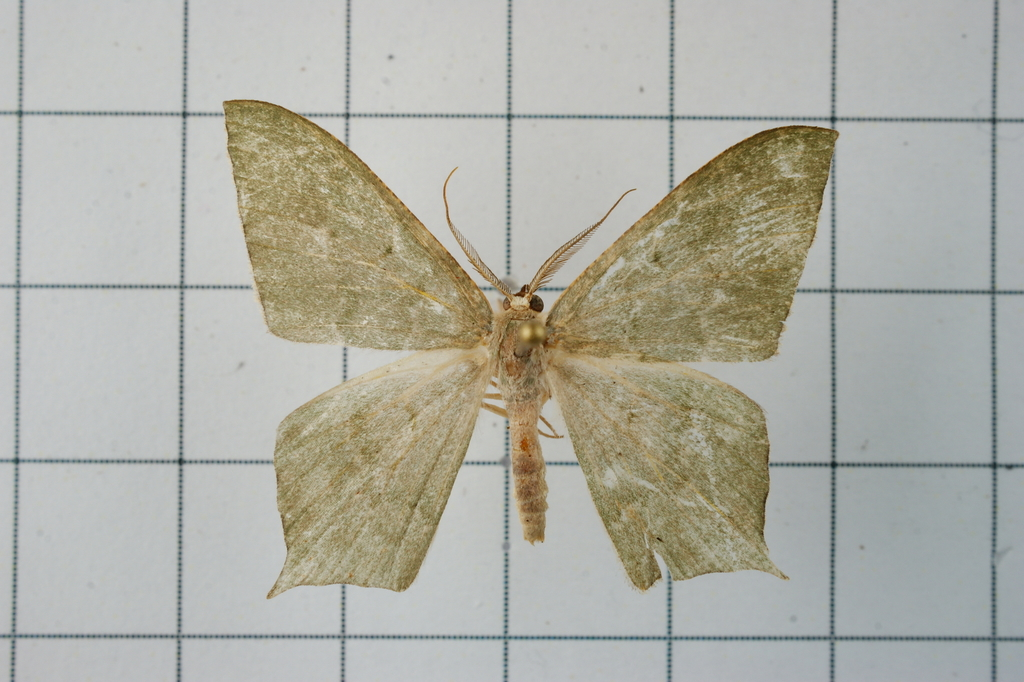Butterfly: (182, 102, 835, 602)
